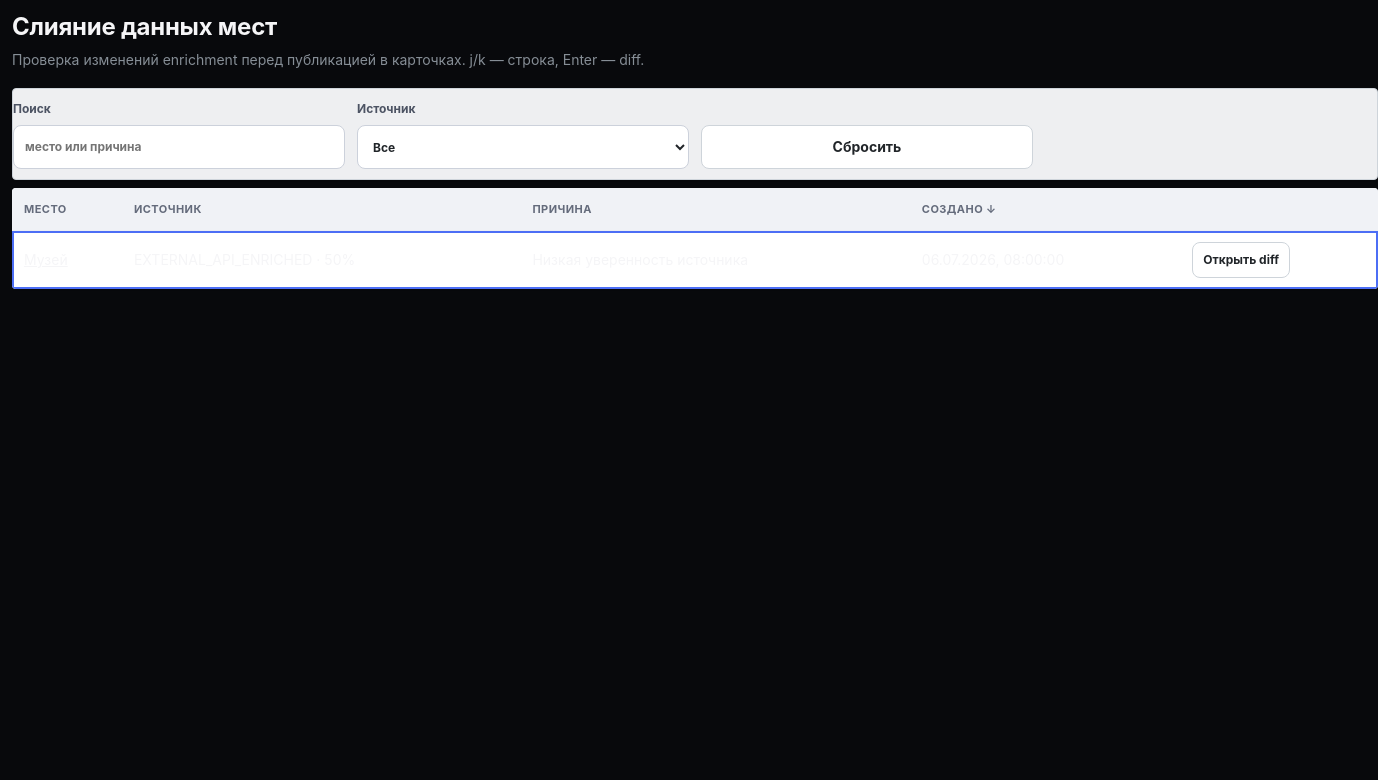
AdminReviewsPage › renders list and diff without raw reason codes
Check: the text "Низкая уверенность источника" is shown, box [520,230,910,289]
Step 1. Click the button "Открыть diff" → click(1241, 260), box [1192,242,1290,278]
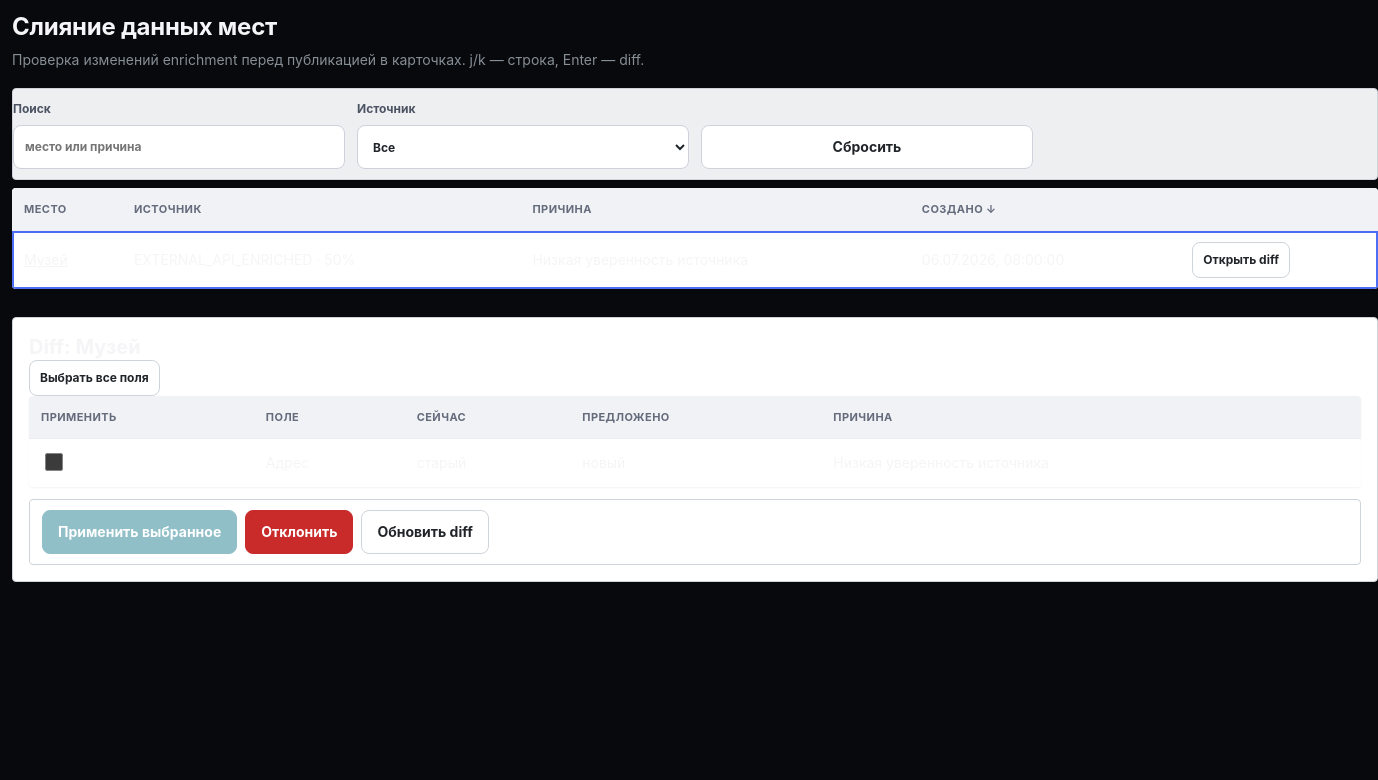
Check: the button "Применить выбранное" is disabled, box [42,510,237,554]
